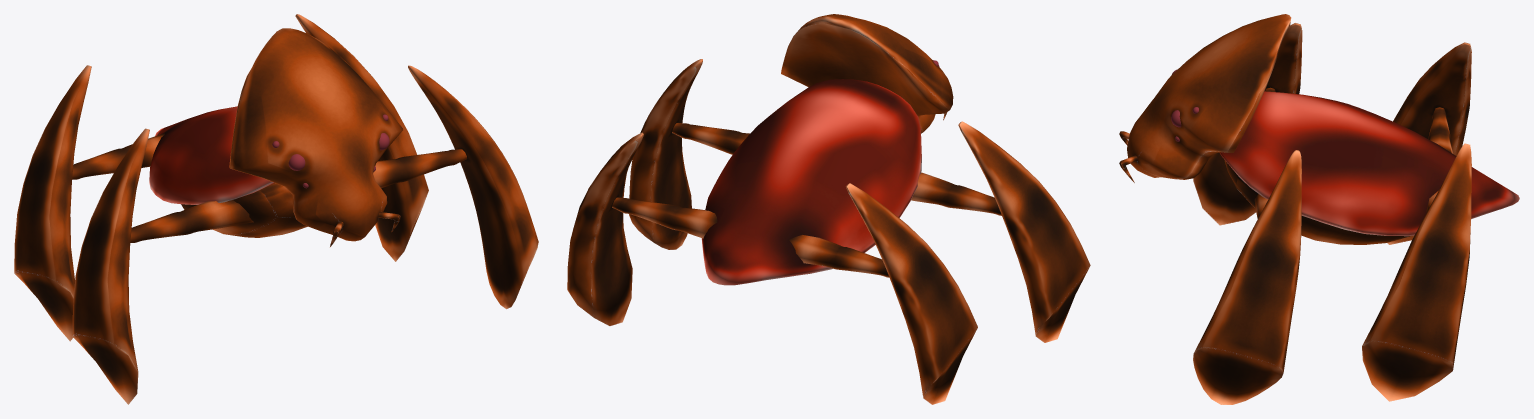
Rendered from maya2sketchfab.fbx.
The picture shows the model from 3 angles, left to right: view 1: azimuth 30°, elevation 25°; view 2: azimuth 150°, elevation 25°; view 3: azimuth 270°, elevation 25°; orthographic projection.
Visible parts, largest first — view 1: Head1, UpperDigger_Right, LowerDigger_Right, UpperDigger_Left, Shell, LowerDigger_Left, Body1, UpperLeg_Right, UpperLeg_Left, LowerLeg_Right; view 2: Shell, UpperDigger_Right, LowerDigger_Right, Head1, LowerDigger_Left, UpperDigger_Left, LowerLeg_Right, LowerLeg_Left, UpperLeg_Right, UpperLeg_Left; view 3: Shell, LowerDigger_Left, UpperDigger_Left, Head1, LowerDigger_Right, UpperDigger_Right, Body1, LowerLeg_Right.
Boxes of the visible parts, left/top/right/bottom form: Head1: left=229, top=28, right=402, bottom=241; UpperDigger_Right: left=72, top=128, right=149, bottom=404; LowerDigger_Right: left=14, top=65, right=91, bottom=341; UpperDigger_Left: left=408, top=65, right=538, bottom=309; Shell: left=149, top=106, right=274, bottom=204; LowerDigger_Left: left=295, top=14, right=428, bottom=261; Body1: left=181, top=183, right=307, bottom=237; UpperLeg_Right: left=130, top=200, right=253, bottom=242; UpperLeg_Left: left=373, top=149, right=466, bottom=188; LowerLeg_Right: left=72, top=133, right=164, bottom=179; Shell: left=701, top=79, right=921, bottom=285; UpperDigger_Right: left=958, top=121, right=1090, bottom=342; LowerDigger_Right: left=846, top=183, right=977, bottom=404; Head1: left=781, top=14, right=953, bottom=133; LowerDigger_Left: left=567, top=132, right=643, bottom=325; UpperDigger_Left: left=629, top=59, right=702, bottom=249; LowerLeg_Right: left=789, top=235, right=889, bottom=277; LowerLeg_Left: left=612, top=197, right=717, bottom=238; UpperLeg_Right: left=911, top=172, right=1001, bottom=215; UpperLeg_Left: left=672, top=123, right=749, bottom=154; Shell: left=1219, top=91, right=1519, bottom=236; LowerDigger_Left: left=1362, top=143, right=1471, bottom=401; UpperDigger_Left: left=1193, top=150, right=1301, bottom=404; Head1: left=1127, top=14, right=1291, bottom=179; LowerDigger_Right: left=1387, top=42, right=1471, bottom=244; UpperDigger_Right: left=1193, top=23, right=1302, bottom=225; Body1: left=1224, top=160, right=1409, bottom=244; LowerLeg_Right: left=1428, top=107, right=1453, bottom=153.
Size of the model in its own units: 29.92 by 20.48 by 24.33.
Materials: 7 (6 with a texture image).
